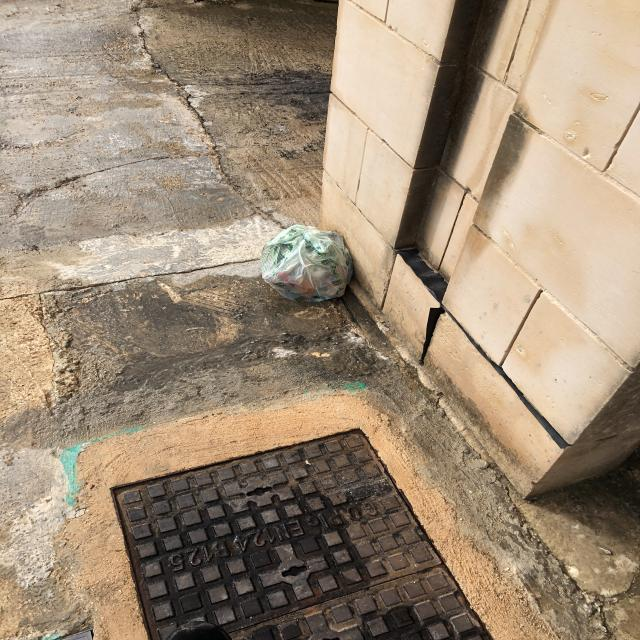Organic Waste -White Bag-: (259, 223, 357, 310)
